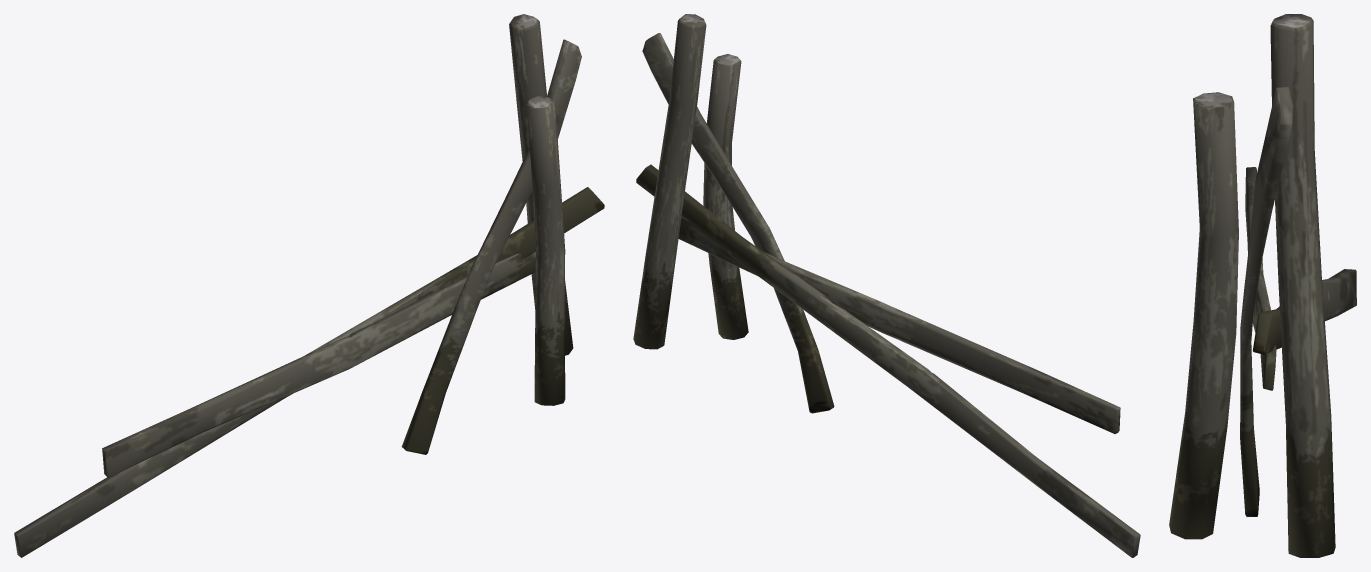
Rendered from Stage_Obj013.fbx.
3 views of the same model, side by side, from view 1: azimuth 30°, elevation 25°; view 2: azimuth 150°, elevation 25°; view 3: azimuth 270°, elevation 25° (orthographic). The views are drawn at different scales.
Visible parts, largest first — view 1: SM_SampleGame_Fence005; view 2: SM_SampleGame_Fence005; view 3: SM_SampleGame_Fence005.
Part boxes in pixels (x1,y1,x2,y2): SM_SampleGame_Fence005: (14, 14, 604, 557); SM_SampleGame_Fence005: (633, 14, 1140, 557); SM_SampleGame_Fence005: (1169, 14, 1356, 557).
Bounding box in the file's own units: 248 × 184 × 49.32.
1 material, 1 textured.
